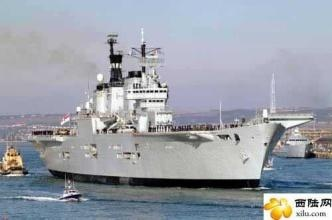otherboat: (1, 138, 27, 178), (58, 178, 83, 202)
warship: (32, 39, 282, 180)
